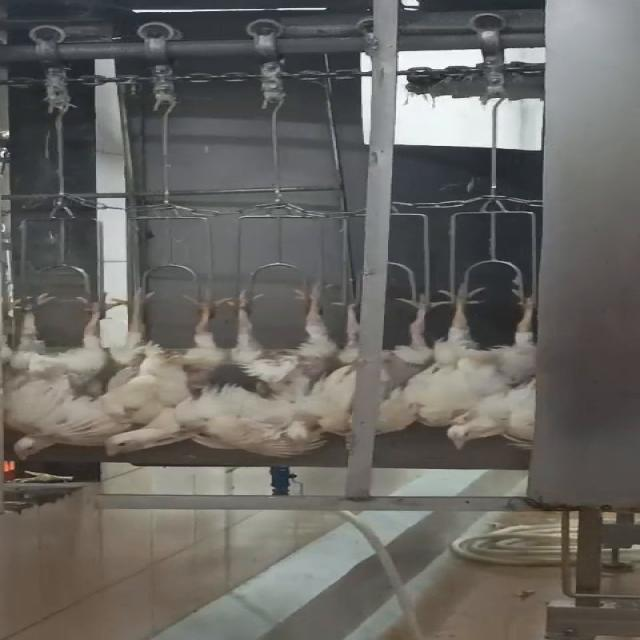chicken: (0, 288, 120, 462), (220, 280, 336, 458), (108, 285, 226, 459), (432, 274, 539, 452), (364, 286, 442, 438)
